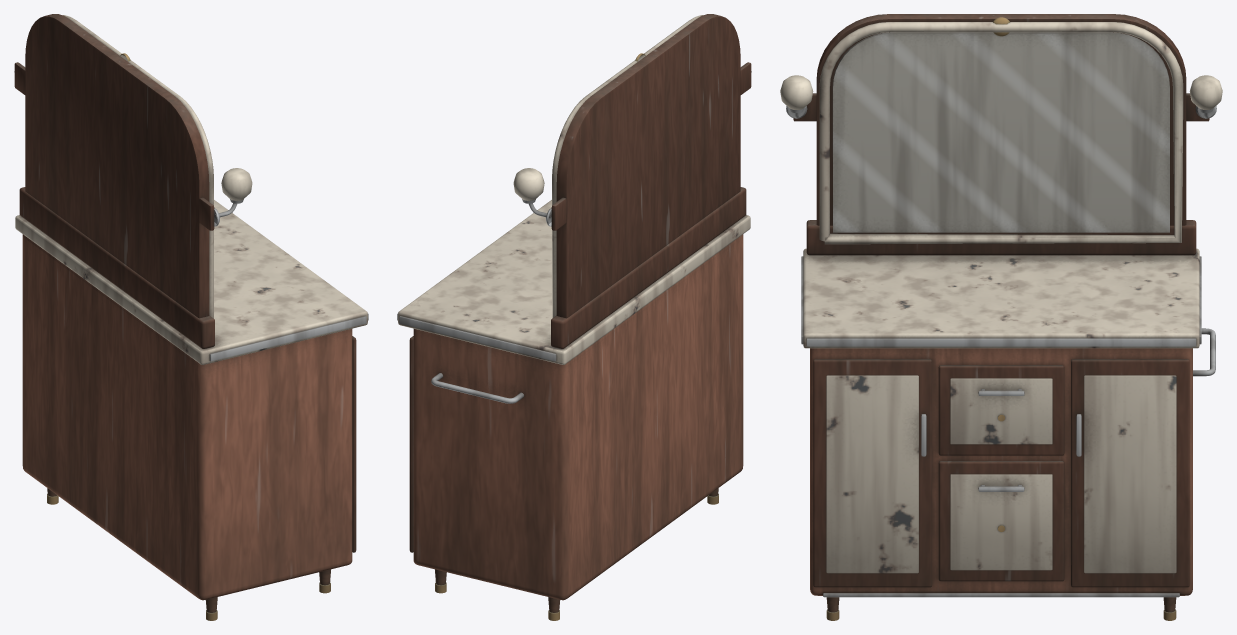
Rendered from SM_Vanity_01.fbx.
3 renders of one model, left to right at view 1: azimuth 30°, elevation 25°; view 2: azimuth 150°, elevation 25°; view 3: azimuth 270°, elevation 25°, orthographic. The views are drawn at different scales.
Visible parts, largest first — view 1: SM_Vanity_01; view 2: SM_Vanity_01; view 3: SM_Vanity_01.
Part boxes in pixels (box(x1,y1,x2,y2)): SM_Vanity_01: box(14, 14, 368, 620); SM_Vanity_01: box(397, 14, 751, 620); SM_Vanity_01: box(780, 14, 1222, 620).
Size of what is drawn, in the model's own units: 62.6 by 180 by 134.
Materials: 1 (1 with a texture image).
